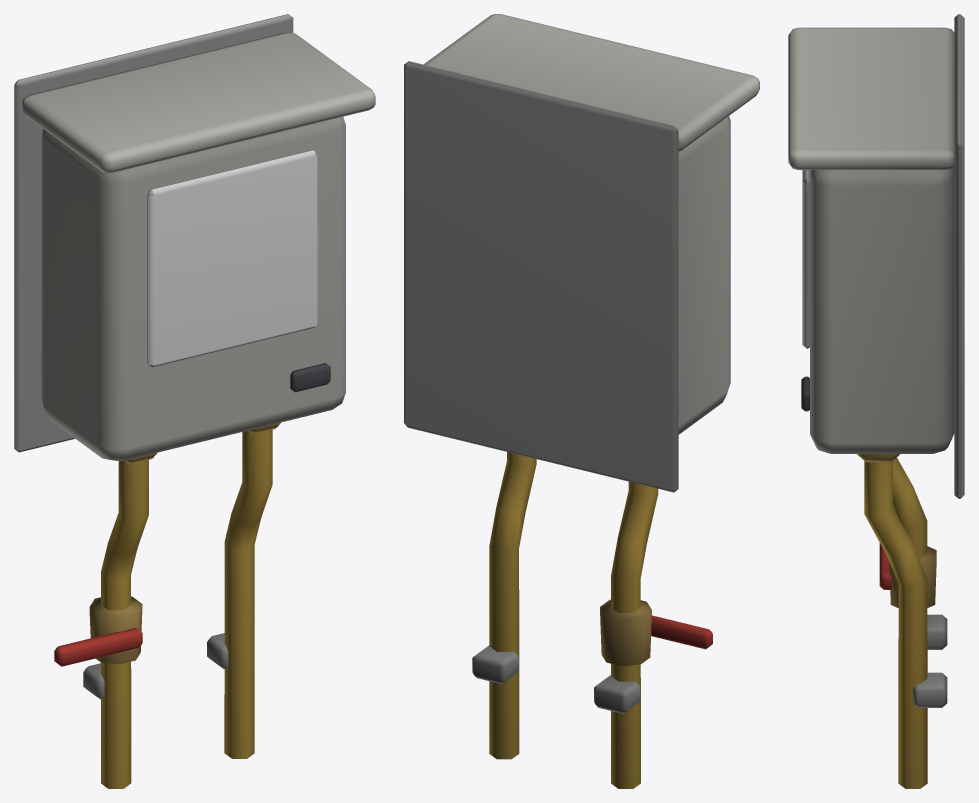
The model's file is GasMeter.fbx.
3 renders of one model, left to right at view 1: azimuth 30°, elevation 25°; view 2: azimuth 150°, elevation 25°; view 3: azimuth 270°, elevation 25°, orthographic. The views are drawn at different scales.
Visible parts, largest first — view 1: GasMeter; view 2: GasMeter; view 3: GasMeter.
Part boxes in pixels (x1=…): GasMeter: x1=14, y1=14, x2=375, y2=788; GasMeter: x1=404, y1=14, x2=759, y2=788; GasMeter: x1=788, y1=14, x2=964, y2=788.
Bounding box in the file's own units: 0.36 × 0.87 × 0.205.
